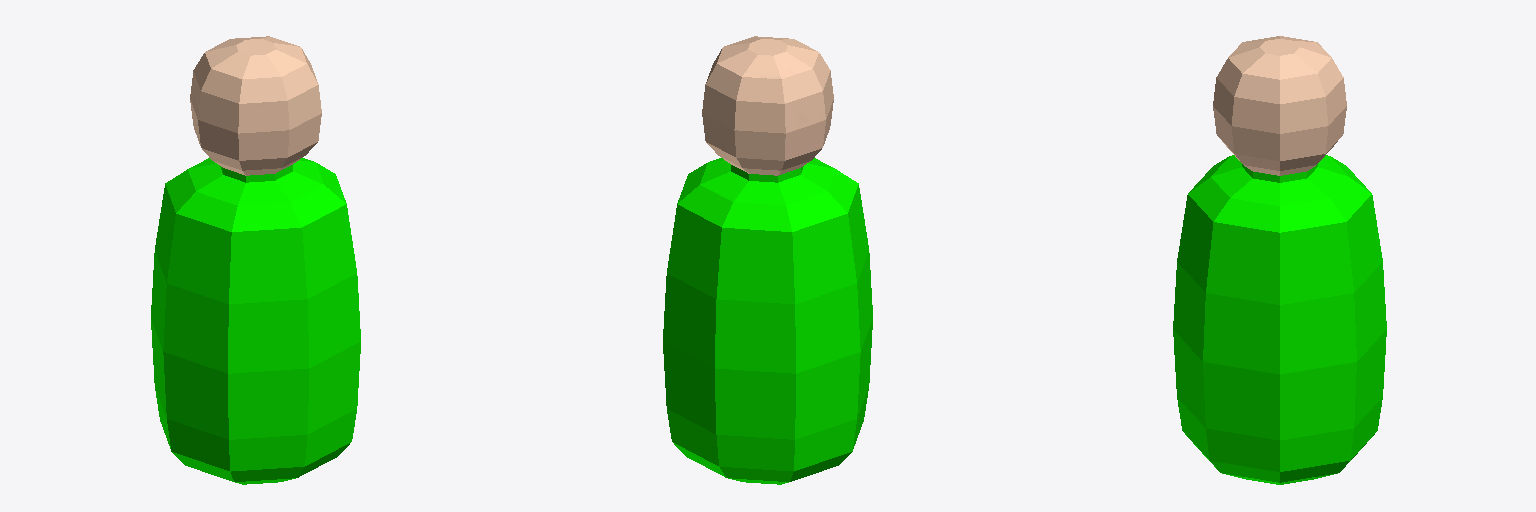
The picture shows the model from 3 angles: view 1: azimuth 30°, elevation 25°; view 2: azimuth 150°, elevation 25°; view 3: azimuth 270°, elevation 25°; orthographic projection.
Visible parts, largest first — view 1: Cube; view 2: Cube; view 3: Cube.
Boxes of the visible parts, box(x1,y1,x2,y2) form: Cube: box(151, 36, 360, 484); Cube: box(663, 36, 872, 484); Cube: box(1173, 36, 1386, 484).
Size of the model in its own units: 0.9879 by 2.13 by 0.9879.
Materials: 1 (1 with a texture image).